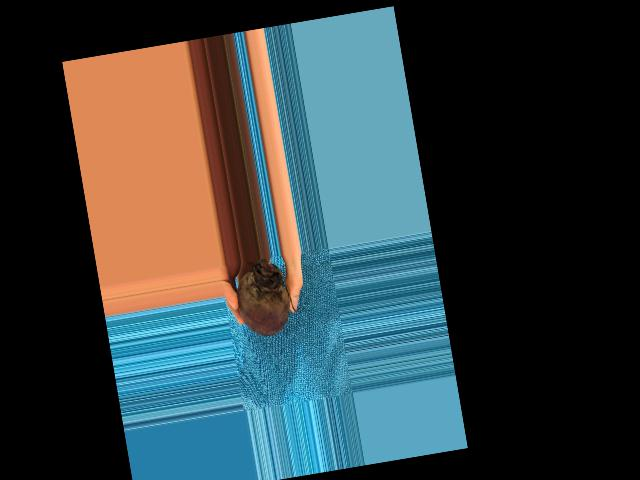beet: (231, 255, 301, 340)
